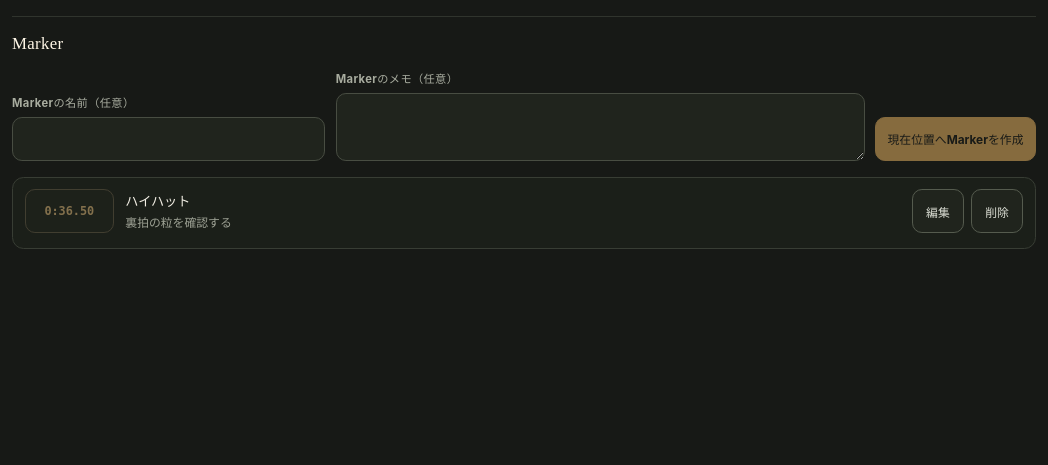
it: MarkerPanel Story 0006 contract › keeps media-position actions unavailable until the current source is ready
expect the button named "0:36.50へ移動" is disabled: met, box [24,189,114,233]
expect the button "現在位置へMarkerを作成" is disabled: met, box [875,117,1036,161]
Click the button with aria-label "0:36.50のMarkerを編集" at (938, 211), box [912,189,964,233]
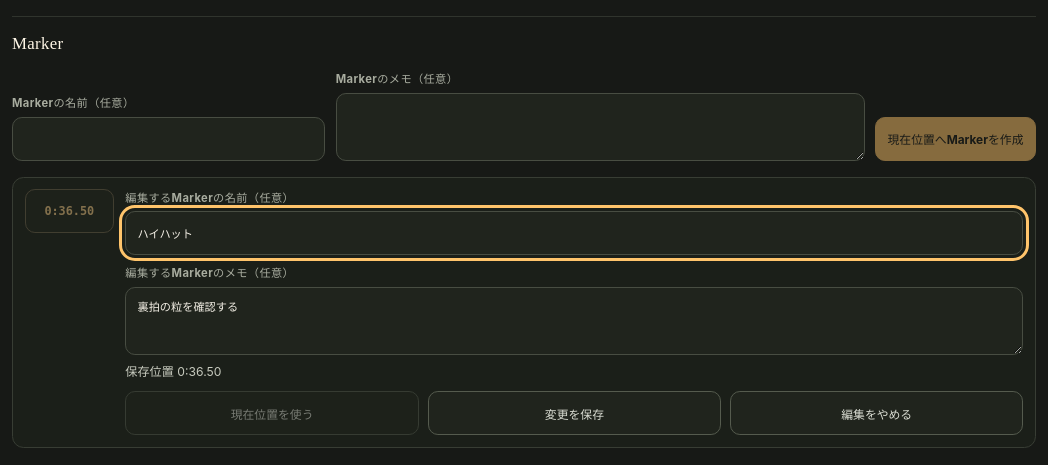
expect the button "現在位置を使う" is disabled: met, box [125,391,419,435]
